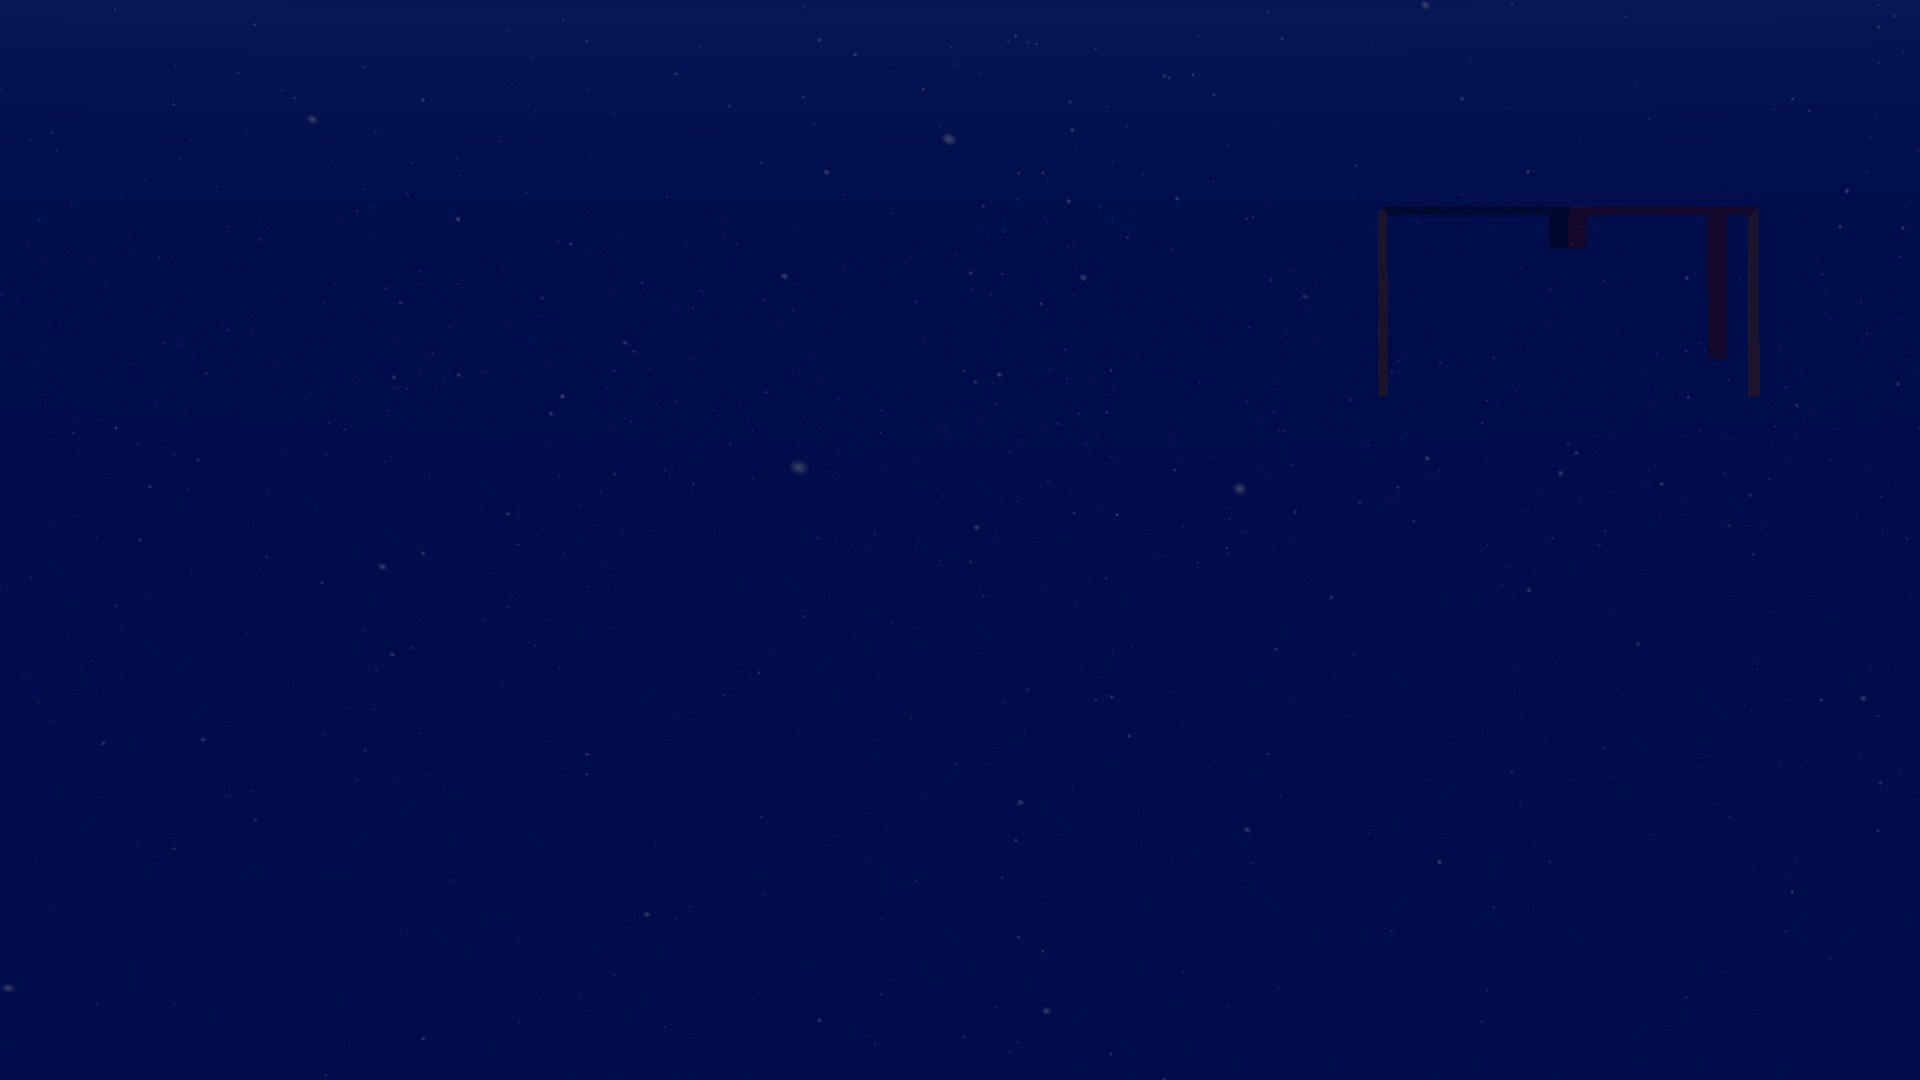Gate: (1371, 198, 1770, 415)
